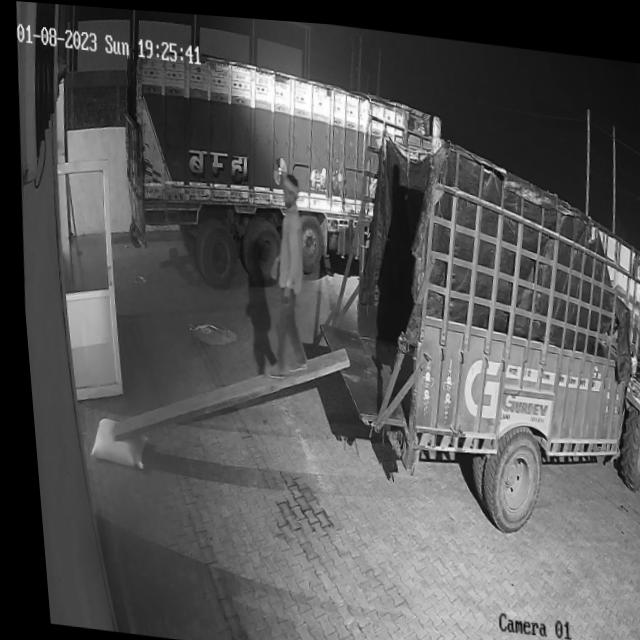sack: (81, 415, 142, 469)
